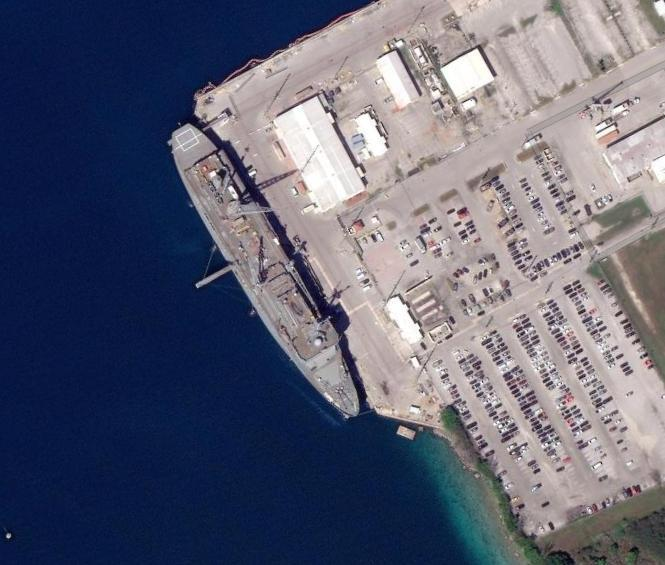supply: (160, 112, 374, 429)
